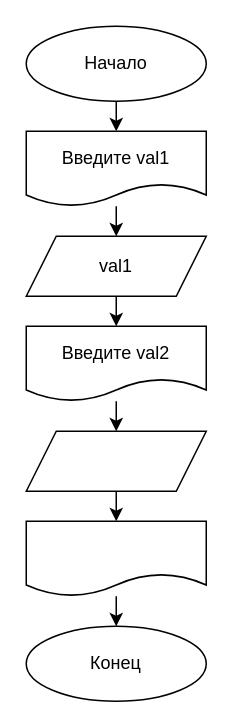
Some shapes in this 233 by 728 pixel diagram are drawn without their labels. Each missing label, with the box of its shape:
val1==val2: (25, 520, 206, 596)
val2: (25, 430, 206, 491)
